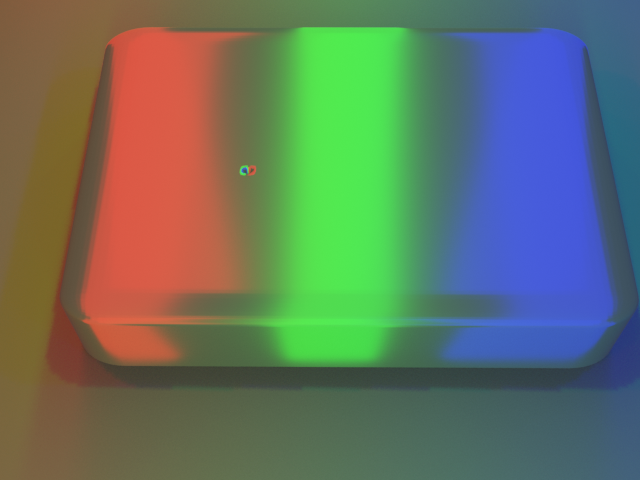dent: (222, 148, 259, 187)
